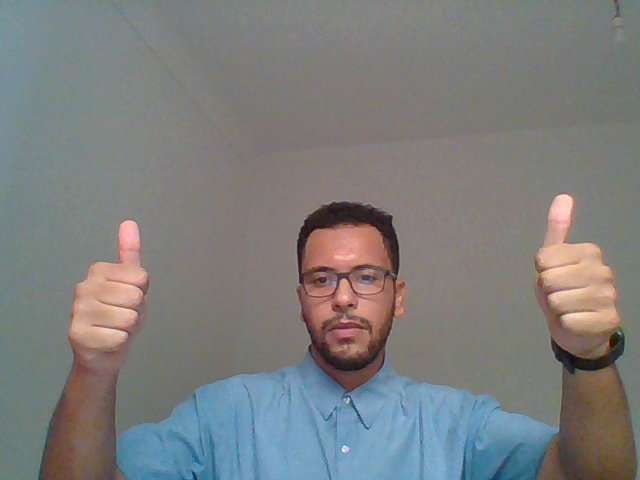ok: (36, 176, 214, 427), (484, 178, 637, 453)
